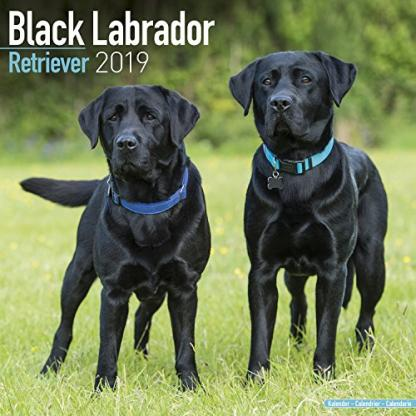Labarador Retriever: (13, 81, 208, 396), (225, 52, 391, 381)
